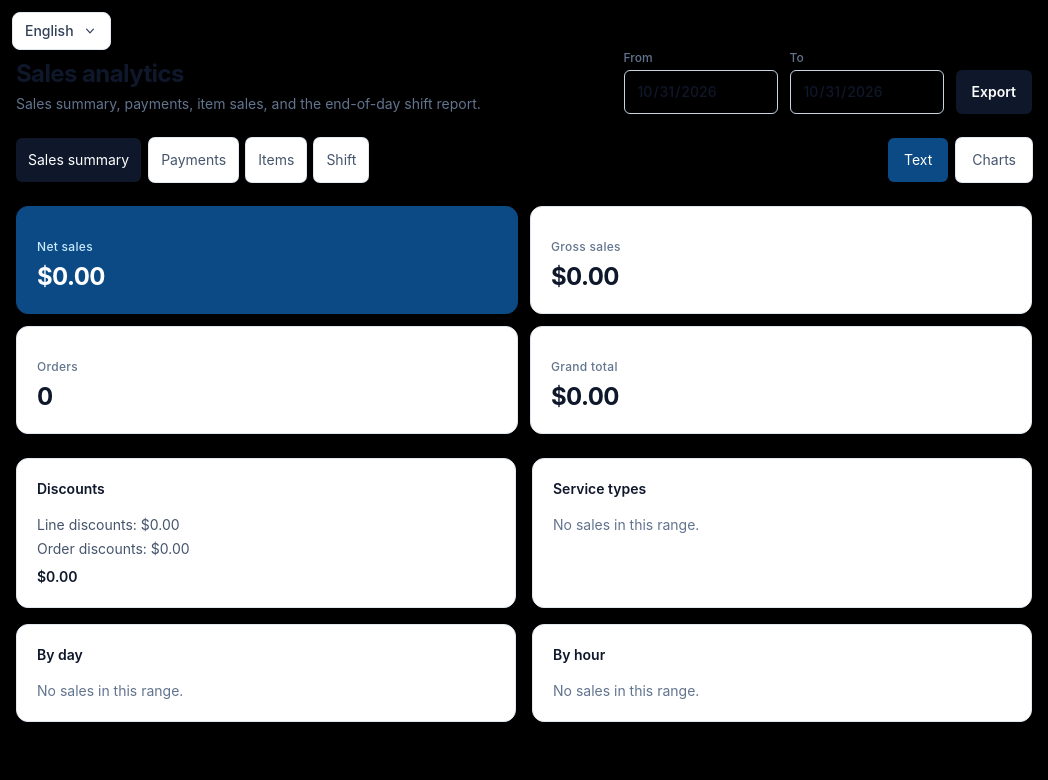
LanguageSwitcher › switches dashboard copy when Myanmar is selected
expect the text "Sales summary, payments, item sales, and the end-of-day shift report." is shown: met, box [16,94,481,114]
Click the button with aria-label "Switch language".
click(61, 31)  # box [12,12,111,50]
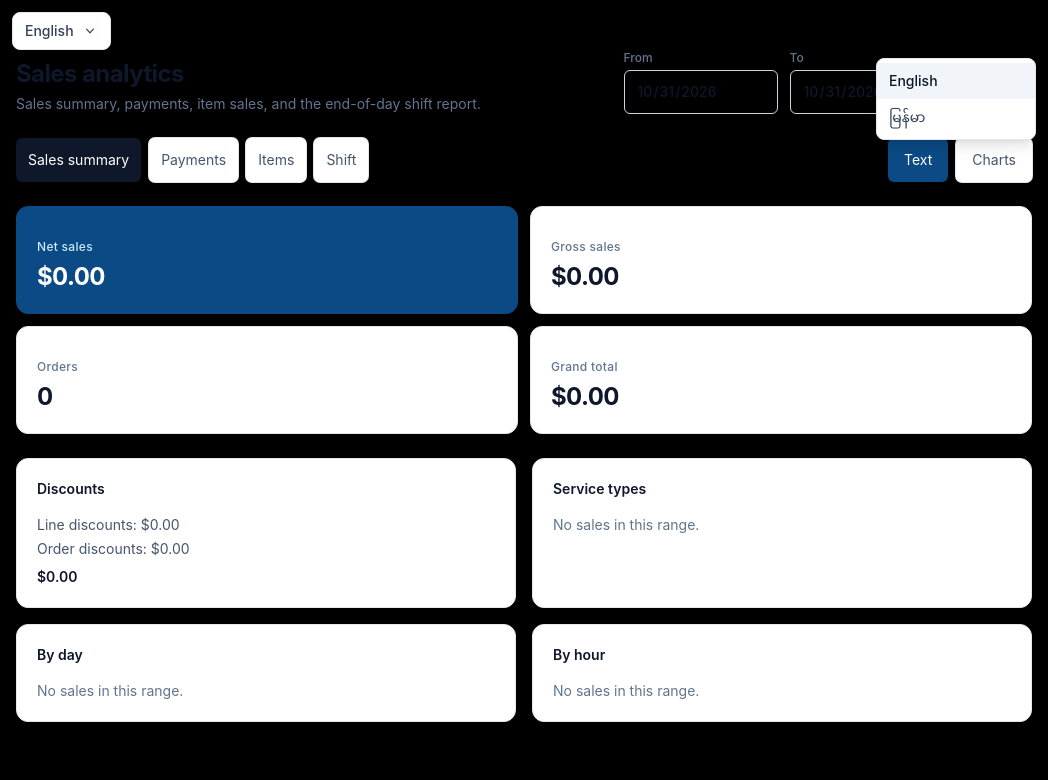
Click the option "မြန်မာ".
click(956, 117)  # box [877,99,1035,135]
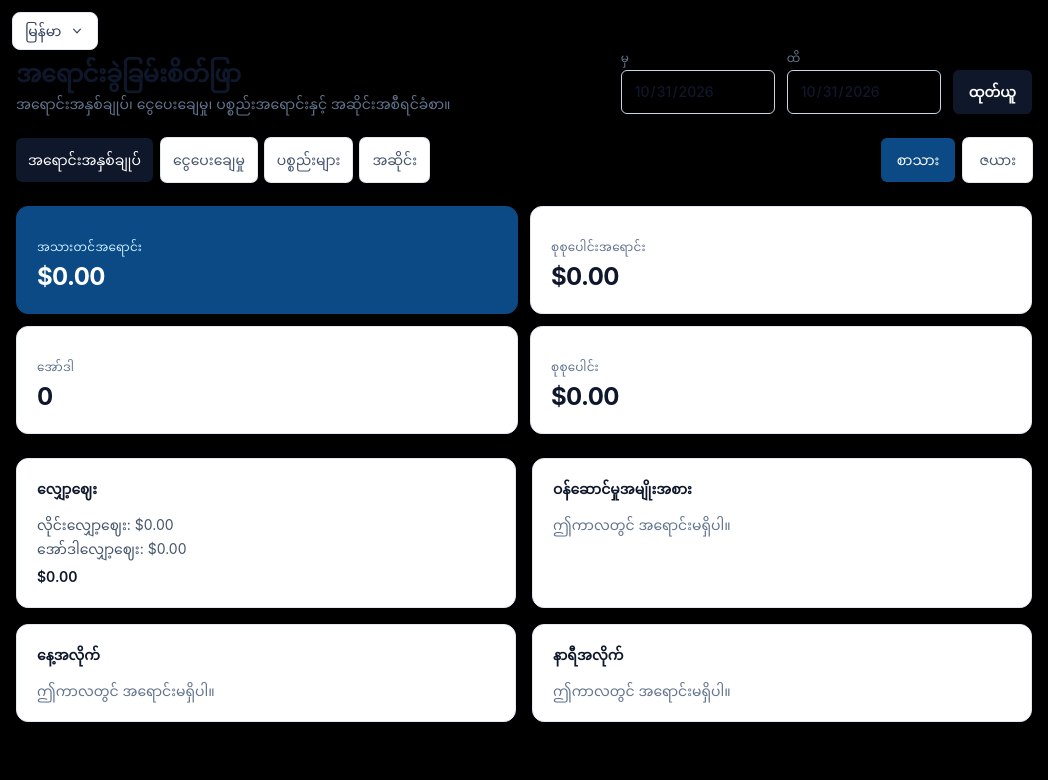
expect the heading "အရောင်းခွဲခြမ်းစိတ်ဖြာ" is shown: met, box [16,59,241,88]
expect the text "အရောင်းအနှစ်ချုပ်၊ ငွေပေးချေမှု၊ ပစ္စည်းအရောင်းနှင့် အဆိုင်းအစီရင်ခံစာ။" is shown: met, box [16,94,450,114]
